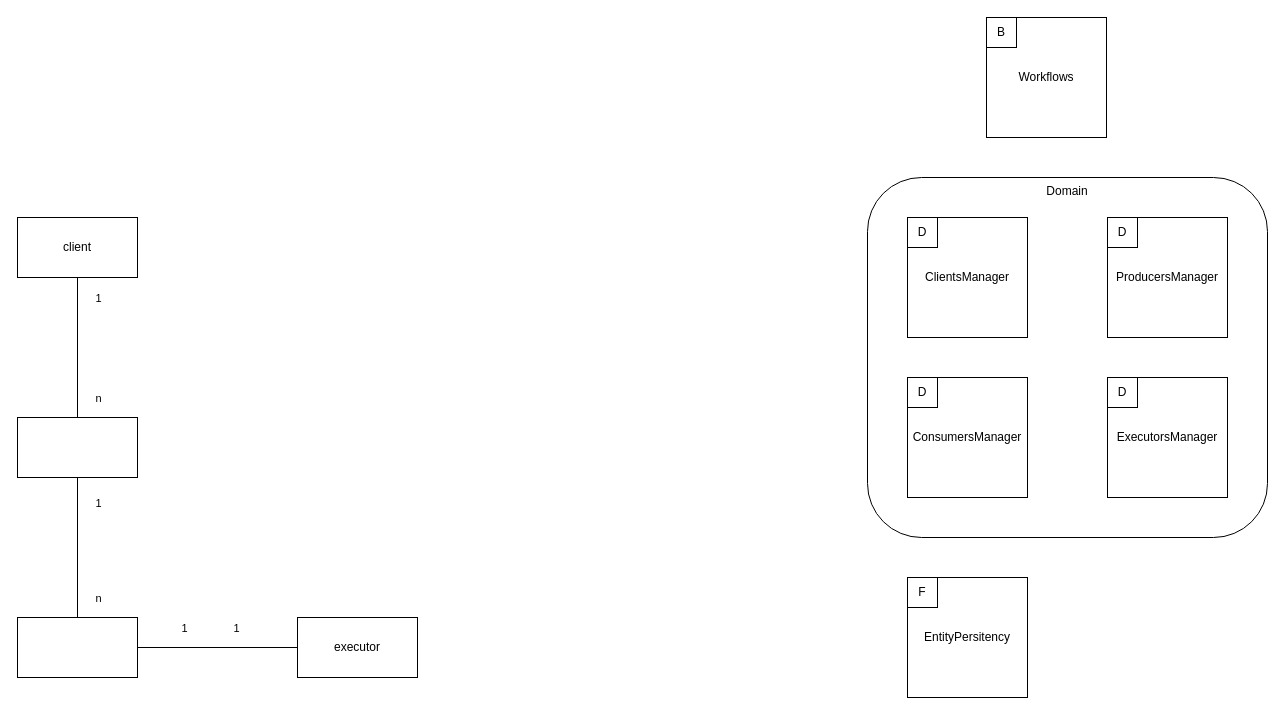
Some shapes in this 1285 by 715 pixel diagram are drawn without their labels. Each missing label, with the centre of its shape:
consumer: [77,647]
producer: [77,447]
